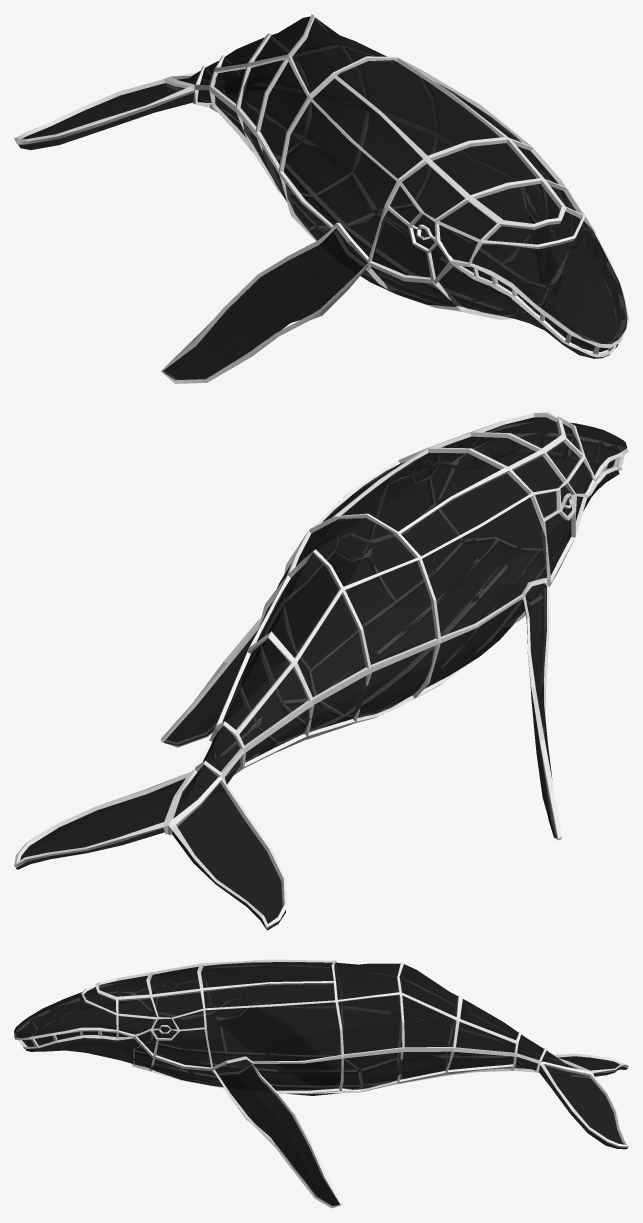
Rendered from CAIO_Whale_01.glb.
3 views of the same model, one above another, from view 1: azimuth 30°, elevation 25°; view 2: azimuth 150°, elevation 25°; view 3: azimuth 270°, elevation 25° (orthographic). The views are drawn at different scales.
Parts seen in each view (by area): view 1: CAIO_Whale_01; view 2: CAIO_Whale_01; view 3: CAIO_Whale_01.
Boxes of the visible parts, bbox=[...] form: CAIO_Whale_01: bbox=[14, 14, 628, 383]; CAIO_Whale_01: bbox=[14, 412, 628, 930]; CAIO_Whale_01: bbox=[14, 959, 628, 1208].
Bounding box in the file's own units: 10.62 × 7.16 × 21.57.
Materials: 1 (1 with a texture image).
